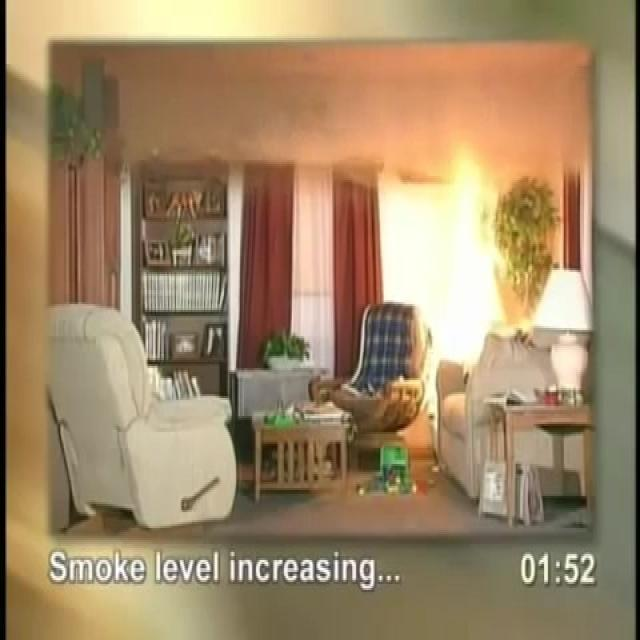Fire: (359, 134, 542, 374)
